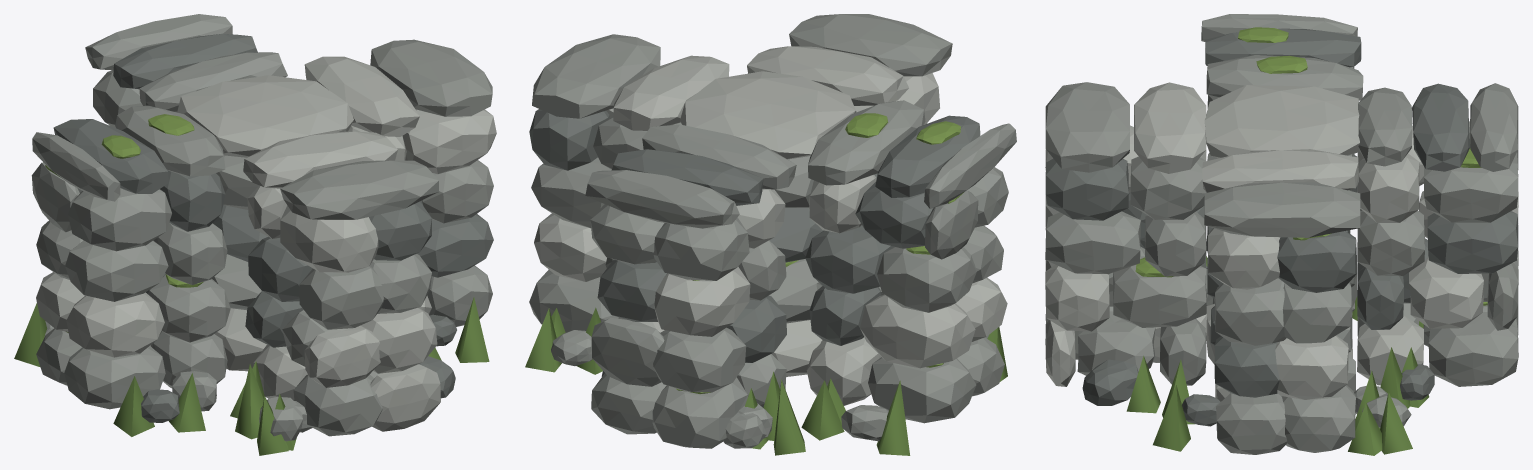
Rendered from stone-wall-4way.glb.
3 views of the same model, side by side, from view 1: azimuth 30°, elevation 25°; view 2: azimuth 150°, elevation 25°; view 3: azimuth 270°, elevation 25° (orthographic). The views are drawn at different scales.
Visible parts, largest first — view 1: junction_capstone, stone_52, stone_20, stone_51, stone_19, stone_85, stone_72, stone_78, stone_46, stone_14, stone_66, stone_42 (+46 smaller); view 2: junction_capstone, stone_20, stone_52, stone_126, stone_68, stone_51, stone_86, stone_19, stone_62, stone_74, stone_115, stone_111 (+44 smaller); view 3: junction_capstone, stone_20, stone_52, stone_51, stone_19, stone_102, stone_44, stone_37, stone_119, stone_113, stone_125, stone_108 (+37 smaller).
Boxes of the visible parts, x1,y1,x2,y2 form: junction_capstone: (177,75,353,157); stone_52: (280,160,438,219); stone_20: (370,39,492,116); stone_51: (243,131,397,188); stone_19: (304,56,419,136); stone_85: (68,188,171,251); stone_72: (66,292,164,357); stone_78: (65,240,168,301); stone_46: (280,205,378,272); stone_14: (402,109,496,173); stone_66: (64,346,165,409); stone_42: (299,266,383,329); junction_capstone: (680,71,856,159); stone_20: (532,34,660,118); stone_52: (789,14,952,76); stone_126: (585,170,739,228); stone_68: (860,295,975,368); stone_51: (747,46,908,105); stone_86: (808,100,925,185); stone_19: (613,55,729,130); stone_62: (868,357,976,423); stone_74: (877,246,976,312); stone_115: (654,267,750,336); stone_111: (653,327,746,392); junction_capstone: (1204,85,1359,158); stone_20: (1204,182,1360,237); stone_52: (1045,82,1129,172); stone_51: (1134,82,1206,173); stone_19: (1202,149,1358,192); stone_102: (1428,312,1518,386); stone_44: (1045,211,1140,274); stone_37: (1113,256,1206,327); stone_119: (1424,161,1518,222); stone_113: (1427,211,1518,273); stone_125: (1412,83,1469,171); stone_108: (1409,257,1483,328).
Bounding box in the file's own units: 1 × 0.6111 × 1.
